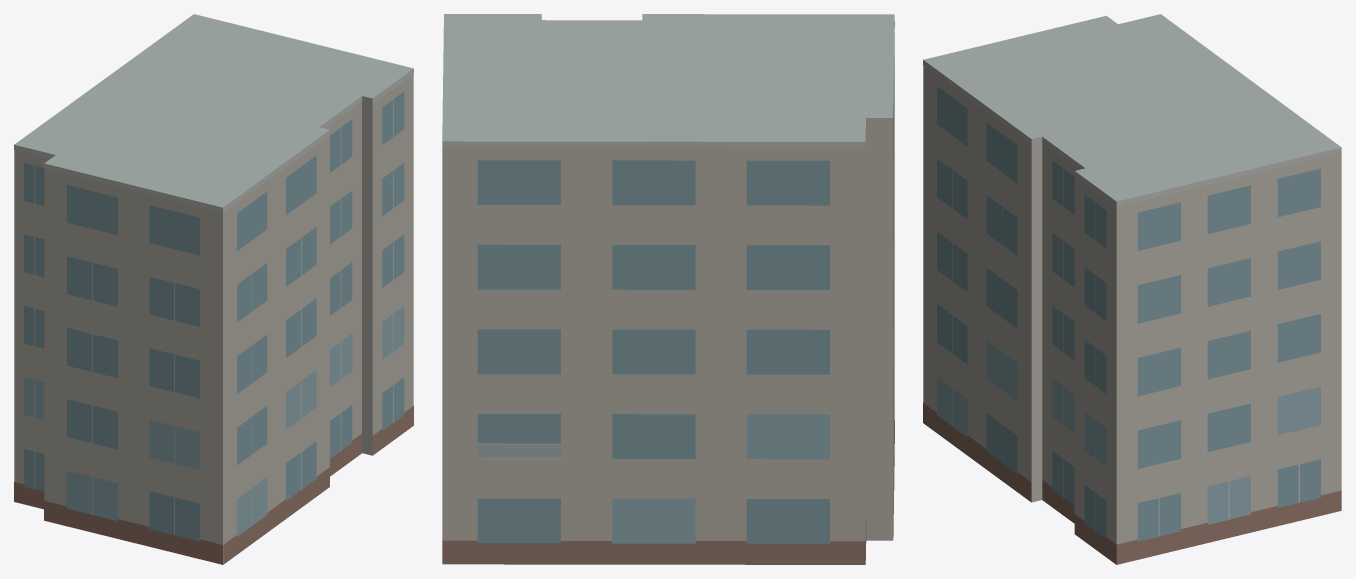
Rendered from survey-upis-32530609.glb.
The picture shows the model from 3 angles, left to right: view 1: azimuth 30°, elevation 25°; view 2: azimuth 150°, elevation 25°; view 3: azimuth 270°, elevation 25°; orthographic projection. The views are drawn at different scales.
Parts seen in each view (by area): view 1: survey-upis-32530609.tmp; view 2: survey-upis-32530609.tmp; view 3: survey-upis-32530609.tmp.
Part boxes in pixels (x1,y1,x2,y2): survey-upis-32530609.tmp: (14,14,413,564); survey-upis-32530609.tmp: (442,14,894,564); survey-upis-32530609.tmp: (923,14,1341,564).
Size of the model in its own units: 18.05 by 16.3 by 17.02.
